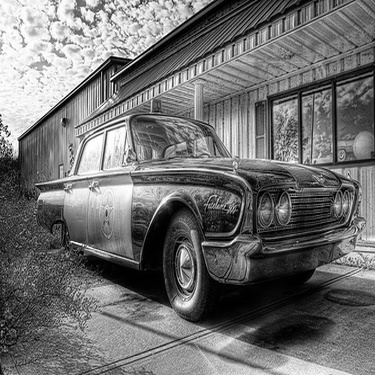car: (30, 109, 365, 323)
